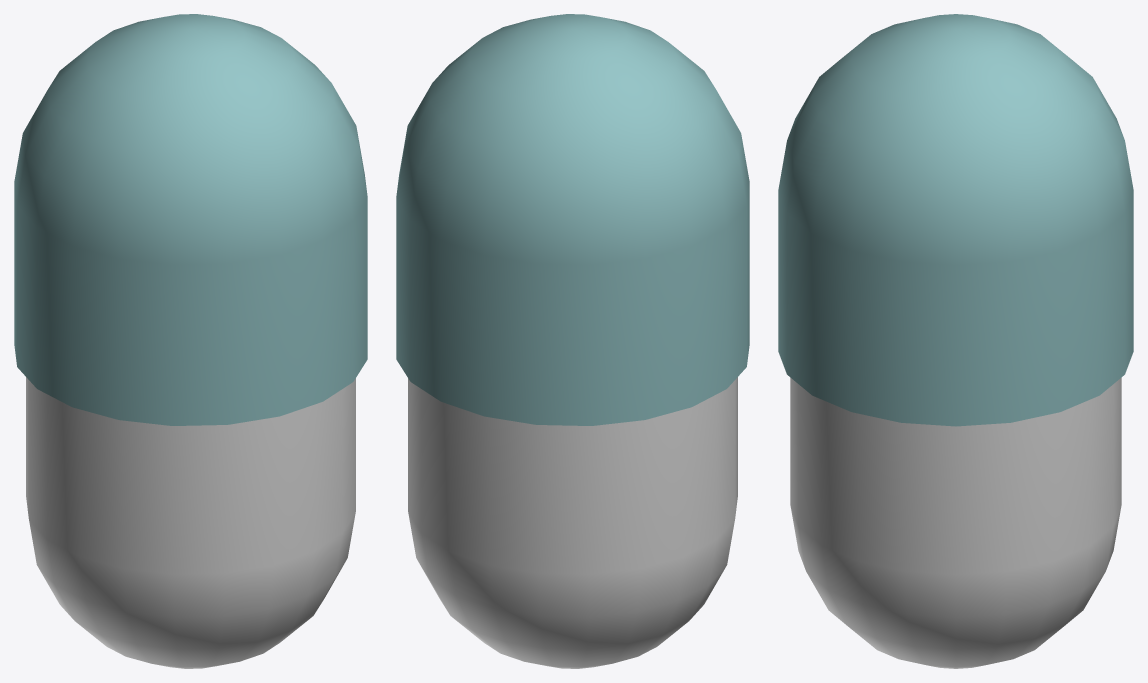
The model's file is Fatigue_Pill.fbx.
The picture shows the model from 3 angles, left to right: view 1: azimuth 30°, elevation 25°; view 2: azimuth 150°, elevation 25°; view 3: azimuth 270°, elevation 25°; orthographic projection.
Parts seen in each view (by area): view 1: Fatigue_Pill; view 2: Fatigue_Pill; view 3: Fatigue_Pill.
Boxes of the visible parts, bbox=[...] form: Fatigue_Pill: bbox=[14, 14, 367, 668]; Fatigue_Pill: bbox=[396, 14, 749, 668]; Fatigue_Pill: bbox=[778, 14, 1133, 668].
Size of the model in its own units: 1.07 by 2.08 by 1.07.
